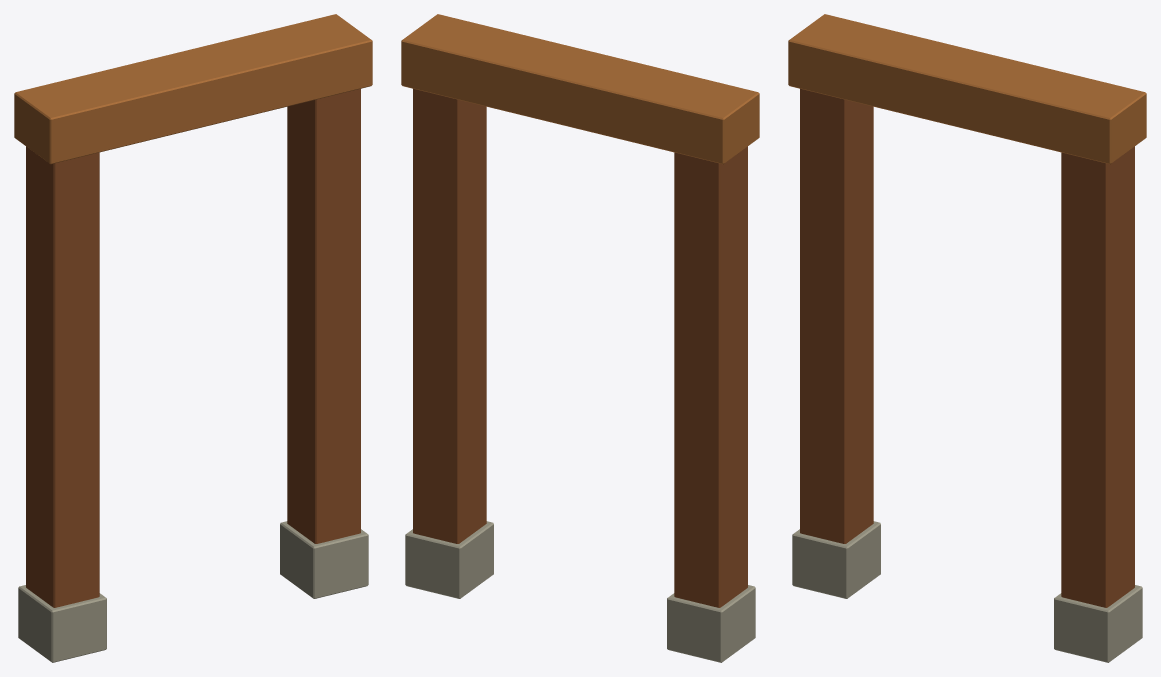
Rendered from entry_frame.glb.
3 renders of one model, left to right at view 1: azimuth 30°, elevation 25°; view 2: azimuth 150°, elevation 25°; view 3: azimuth 330°, elevation 25°, orthographic.
Visible parts, largest first — view 1: entry_frame__body__oak, entry_frame__body__oak2, entry_frame__body__stone; view 2: entry_frame__body__oak, entry_frame__body__oak2, entry_frame__body__stone; view 3: entry_frame__body__oak, entry_frame__body__oak2, entry_frame__body__stone.
Boxes of the visible parts, left/top/right/bottom form: entry_frame__body__oak: left=26, top=88, right=360, bottom=607; entry_frame__body__oak2: left=14, top=14, right=372, bottom=164; entry_frame__body__stone: left=18, top=521, right=368, bottom=662; entry_frame__body__oak: left=413, top=88, right=747, bottom=607; entry_frame__body__oak2: left=401, top=14, right=759, bottom=164; entry_frame__body__stone: left=405, top=521, right=755, bottom=662; entry_frame__body__oak: left=800, top=88, right=1134, bottom=607; entry_frame__body__oak2: left=788, top=14, right=1146, bottom=164; entry_frame__body__stone: left=792, top=521, right=1142, bottom=662.
Size of the model in its own units: 1.68 by 2.71 by 0.33.
